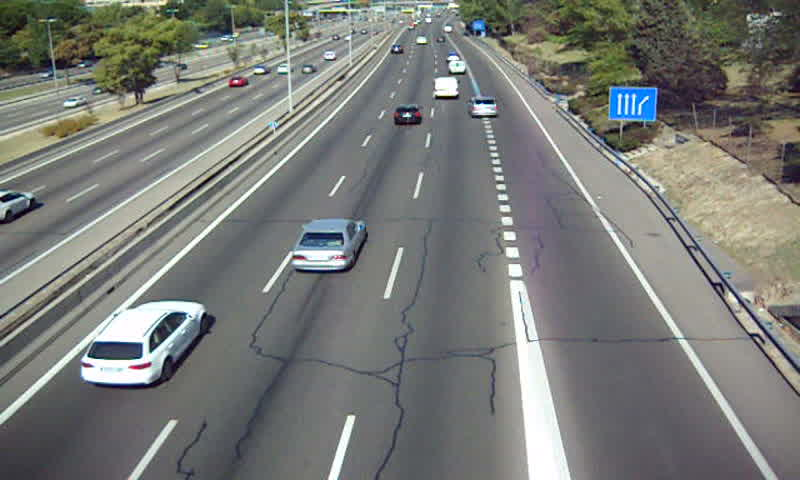car: (82, 300, 206, 385), (290, 218, 367, 272), (394, 104, 422, 127), (470, 97, 499, 118)
van: (433, 76, 460, 100), (450, 59, 466, 75)
